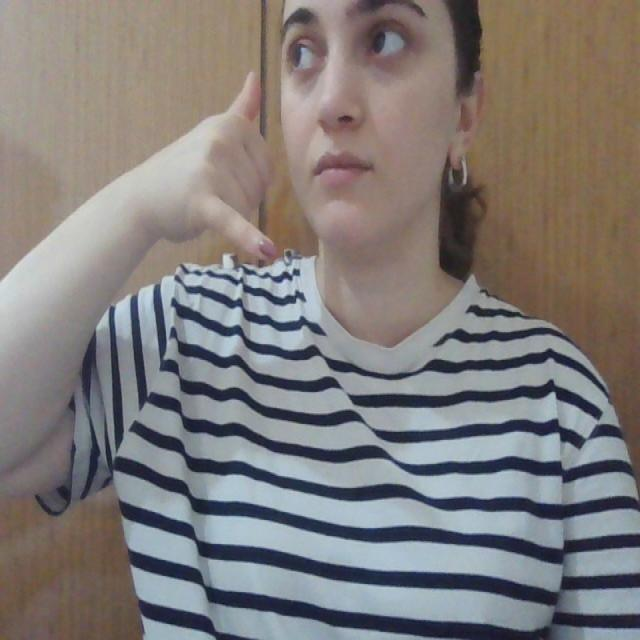Telefon: (165, 53, 308, 295)
